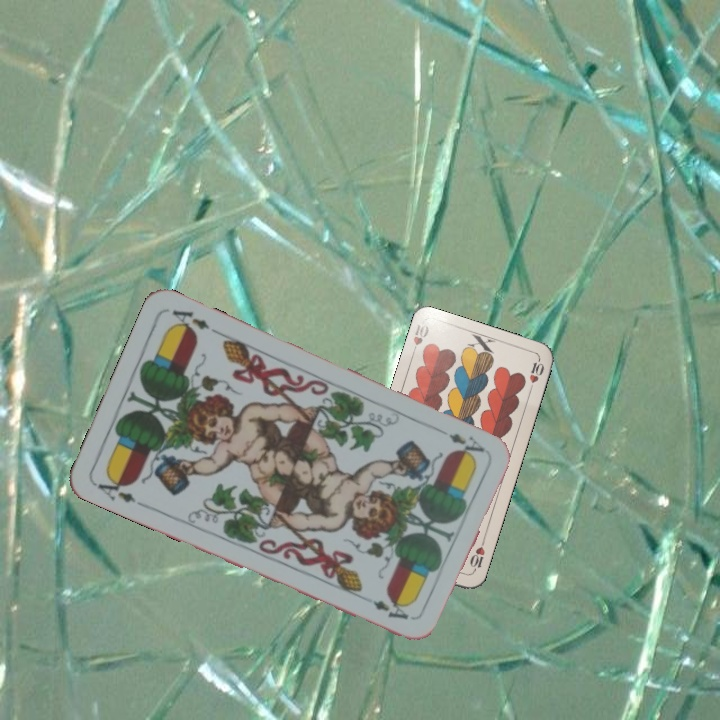EA: (91, 472, 147, 510), (444, 429, 488, 458)
H10: (407, 320, 432, 359), (466, 536, 488, 576)
